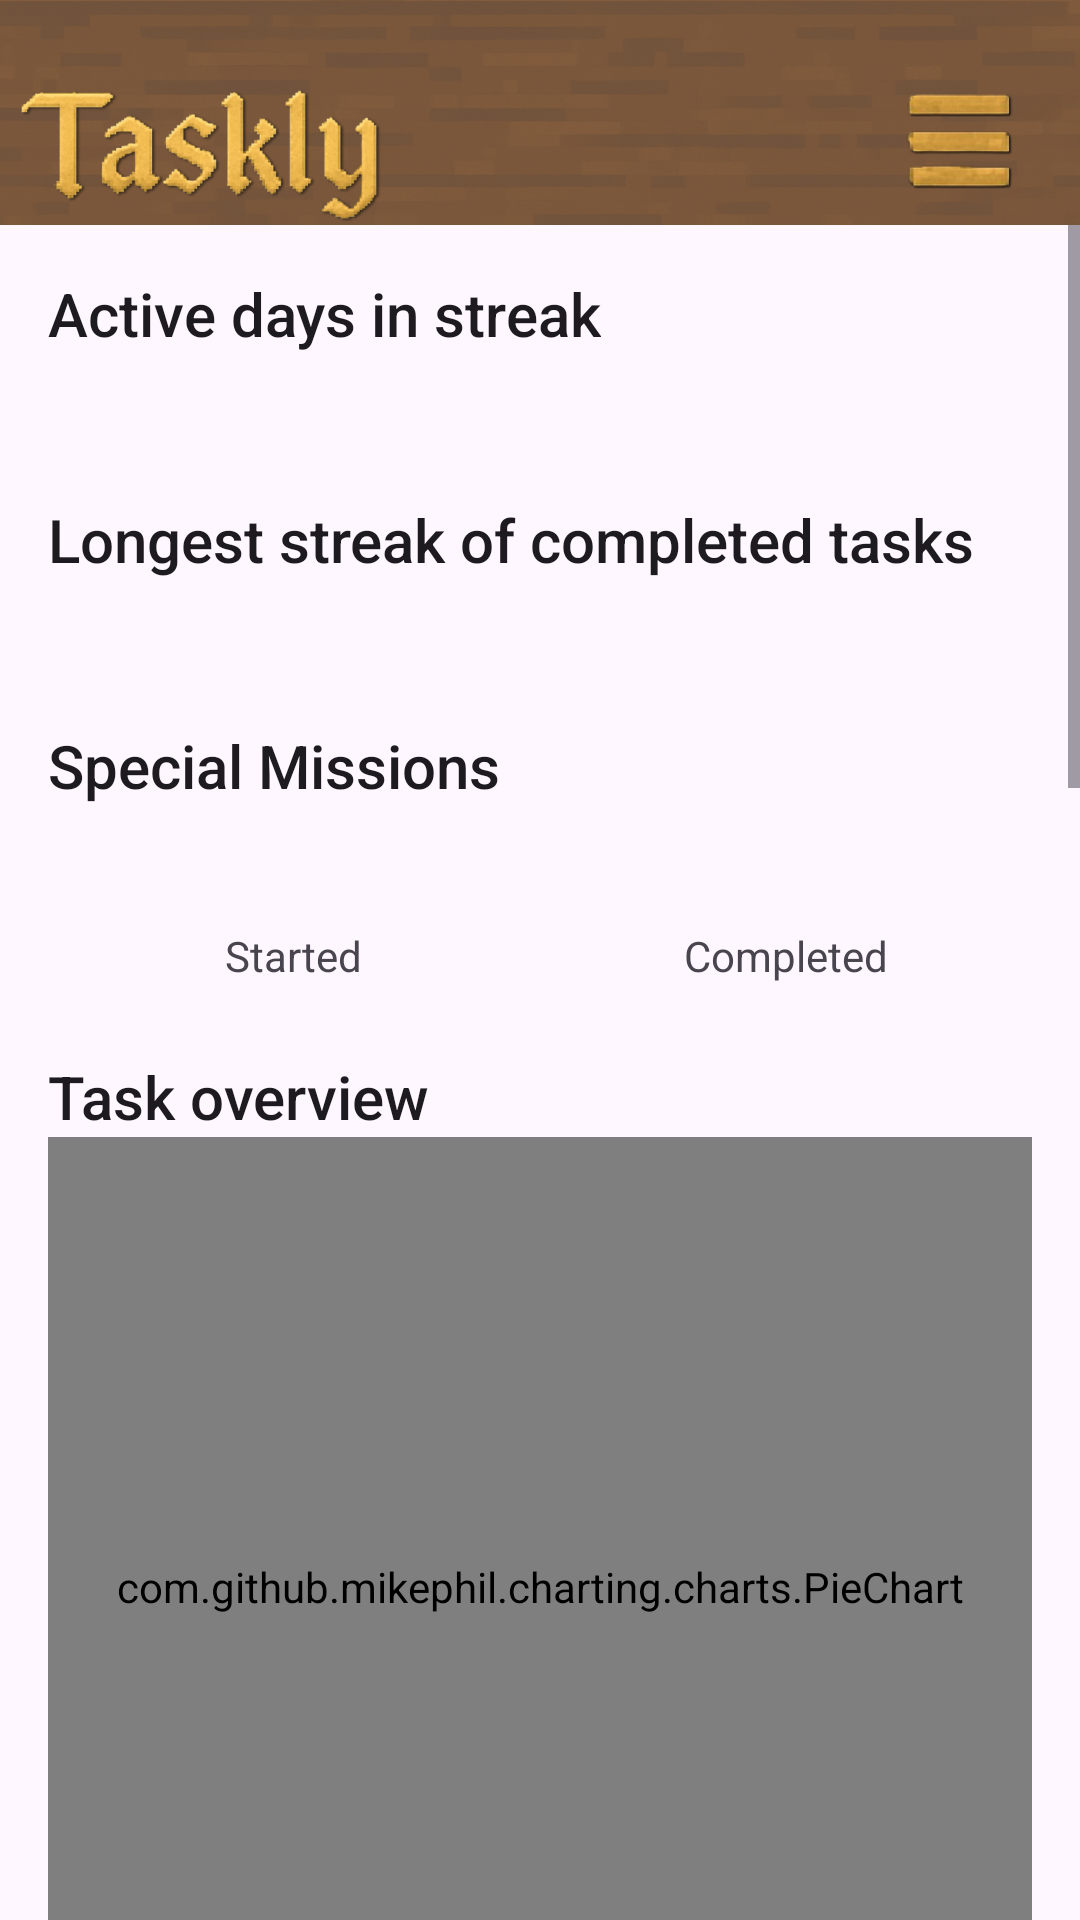

Where to tap for icons on this 1080×1920 app screen, as [x,y]:
menu: [960,141]
